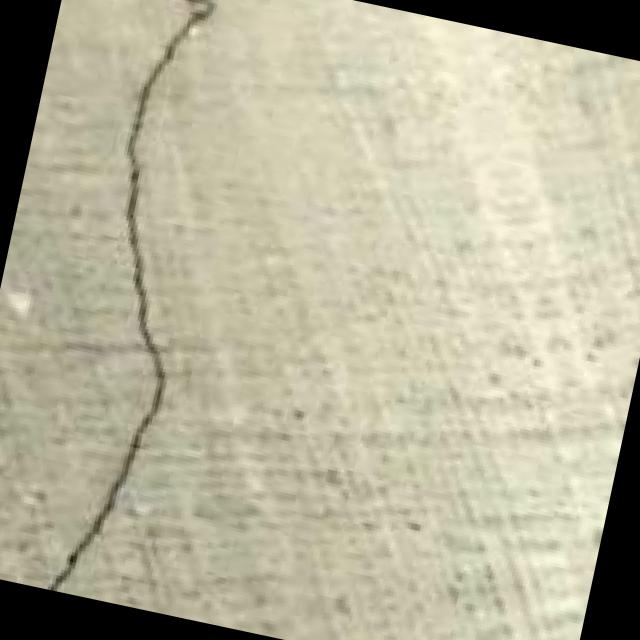crack: (0, 0, 280, 607)
